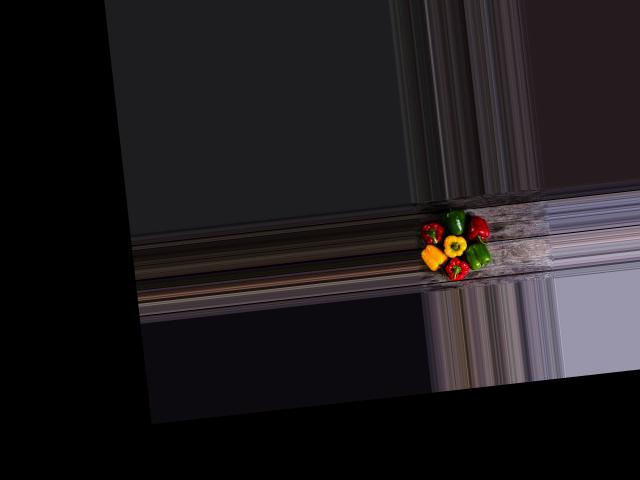bell_pepper: (415, 220, 445, 250)
